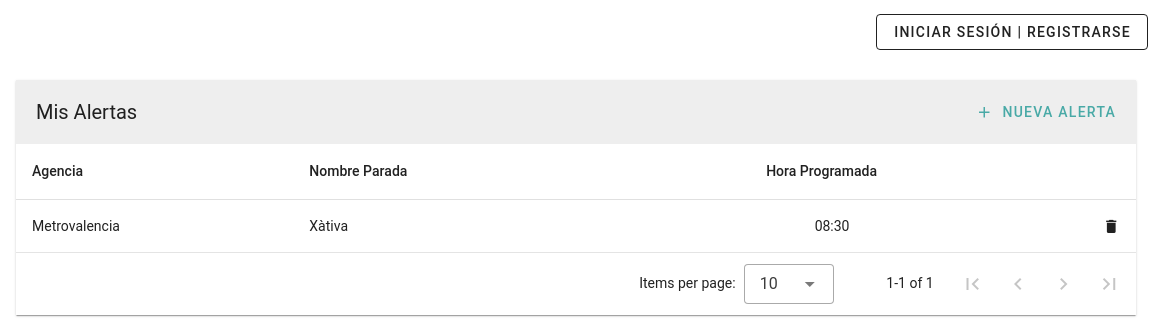
Test: Flujo de Gestión de Alertas por Email › debería permitir borrar una alerta existente
Expected: the text "Xàtiva" is shown, [293,200,643,252]
Acción de borrar
Click the button with test id "btn-borrar-alerta" at (1112, 227), box [1103,218,1121,236]
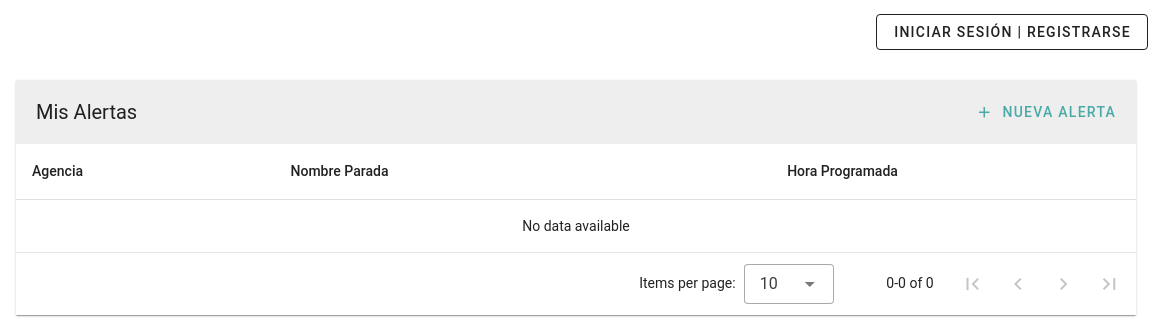
Result: the text "Xàtiva" is gone
